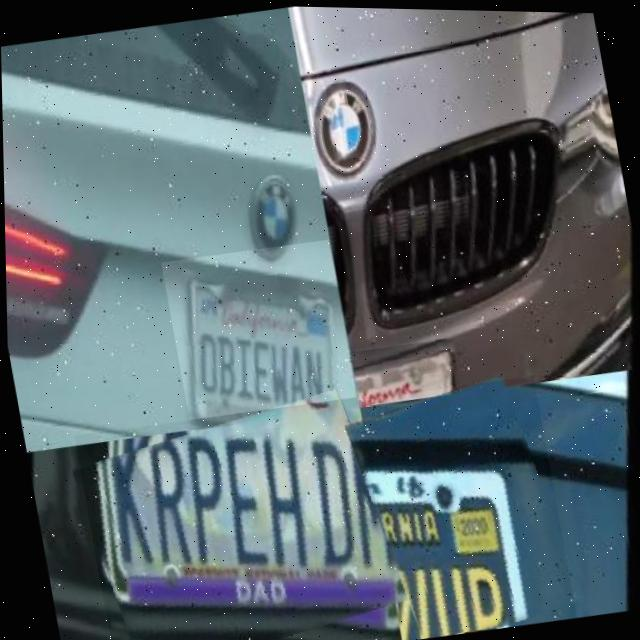LicensePlate: (71, 388, 405, 640), (347, 370, 575, 640), (160, 235, 357, 433), (350, 337, 451, 406)
